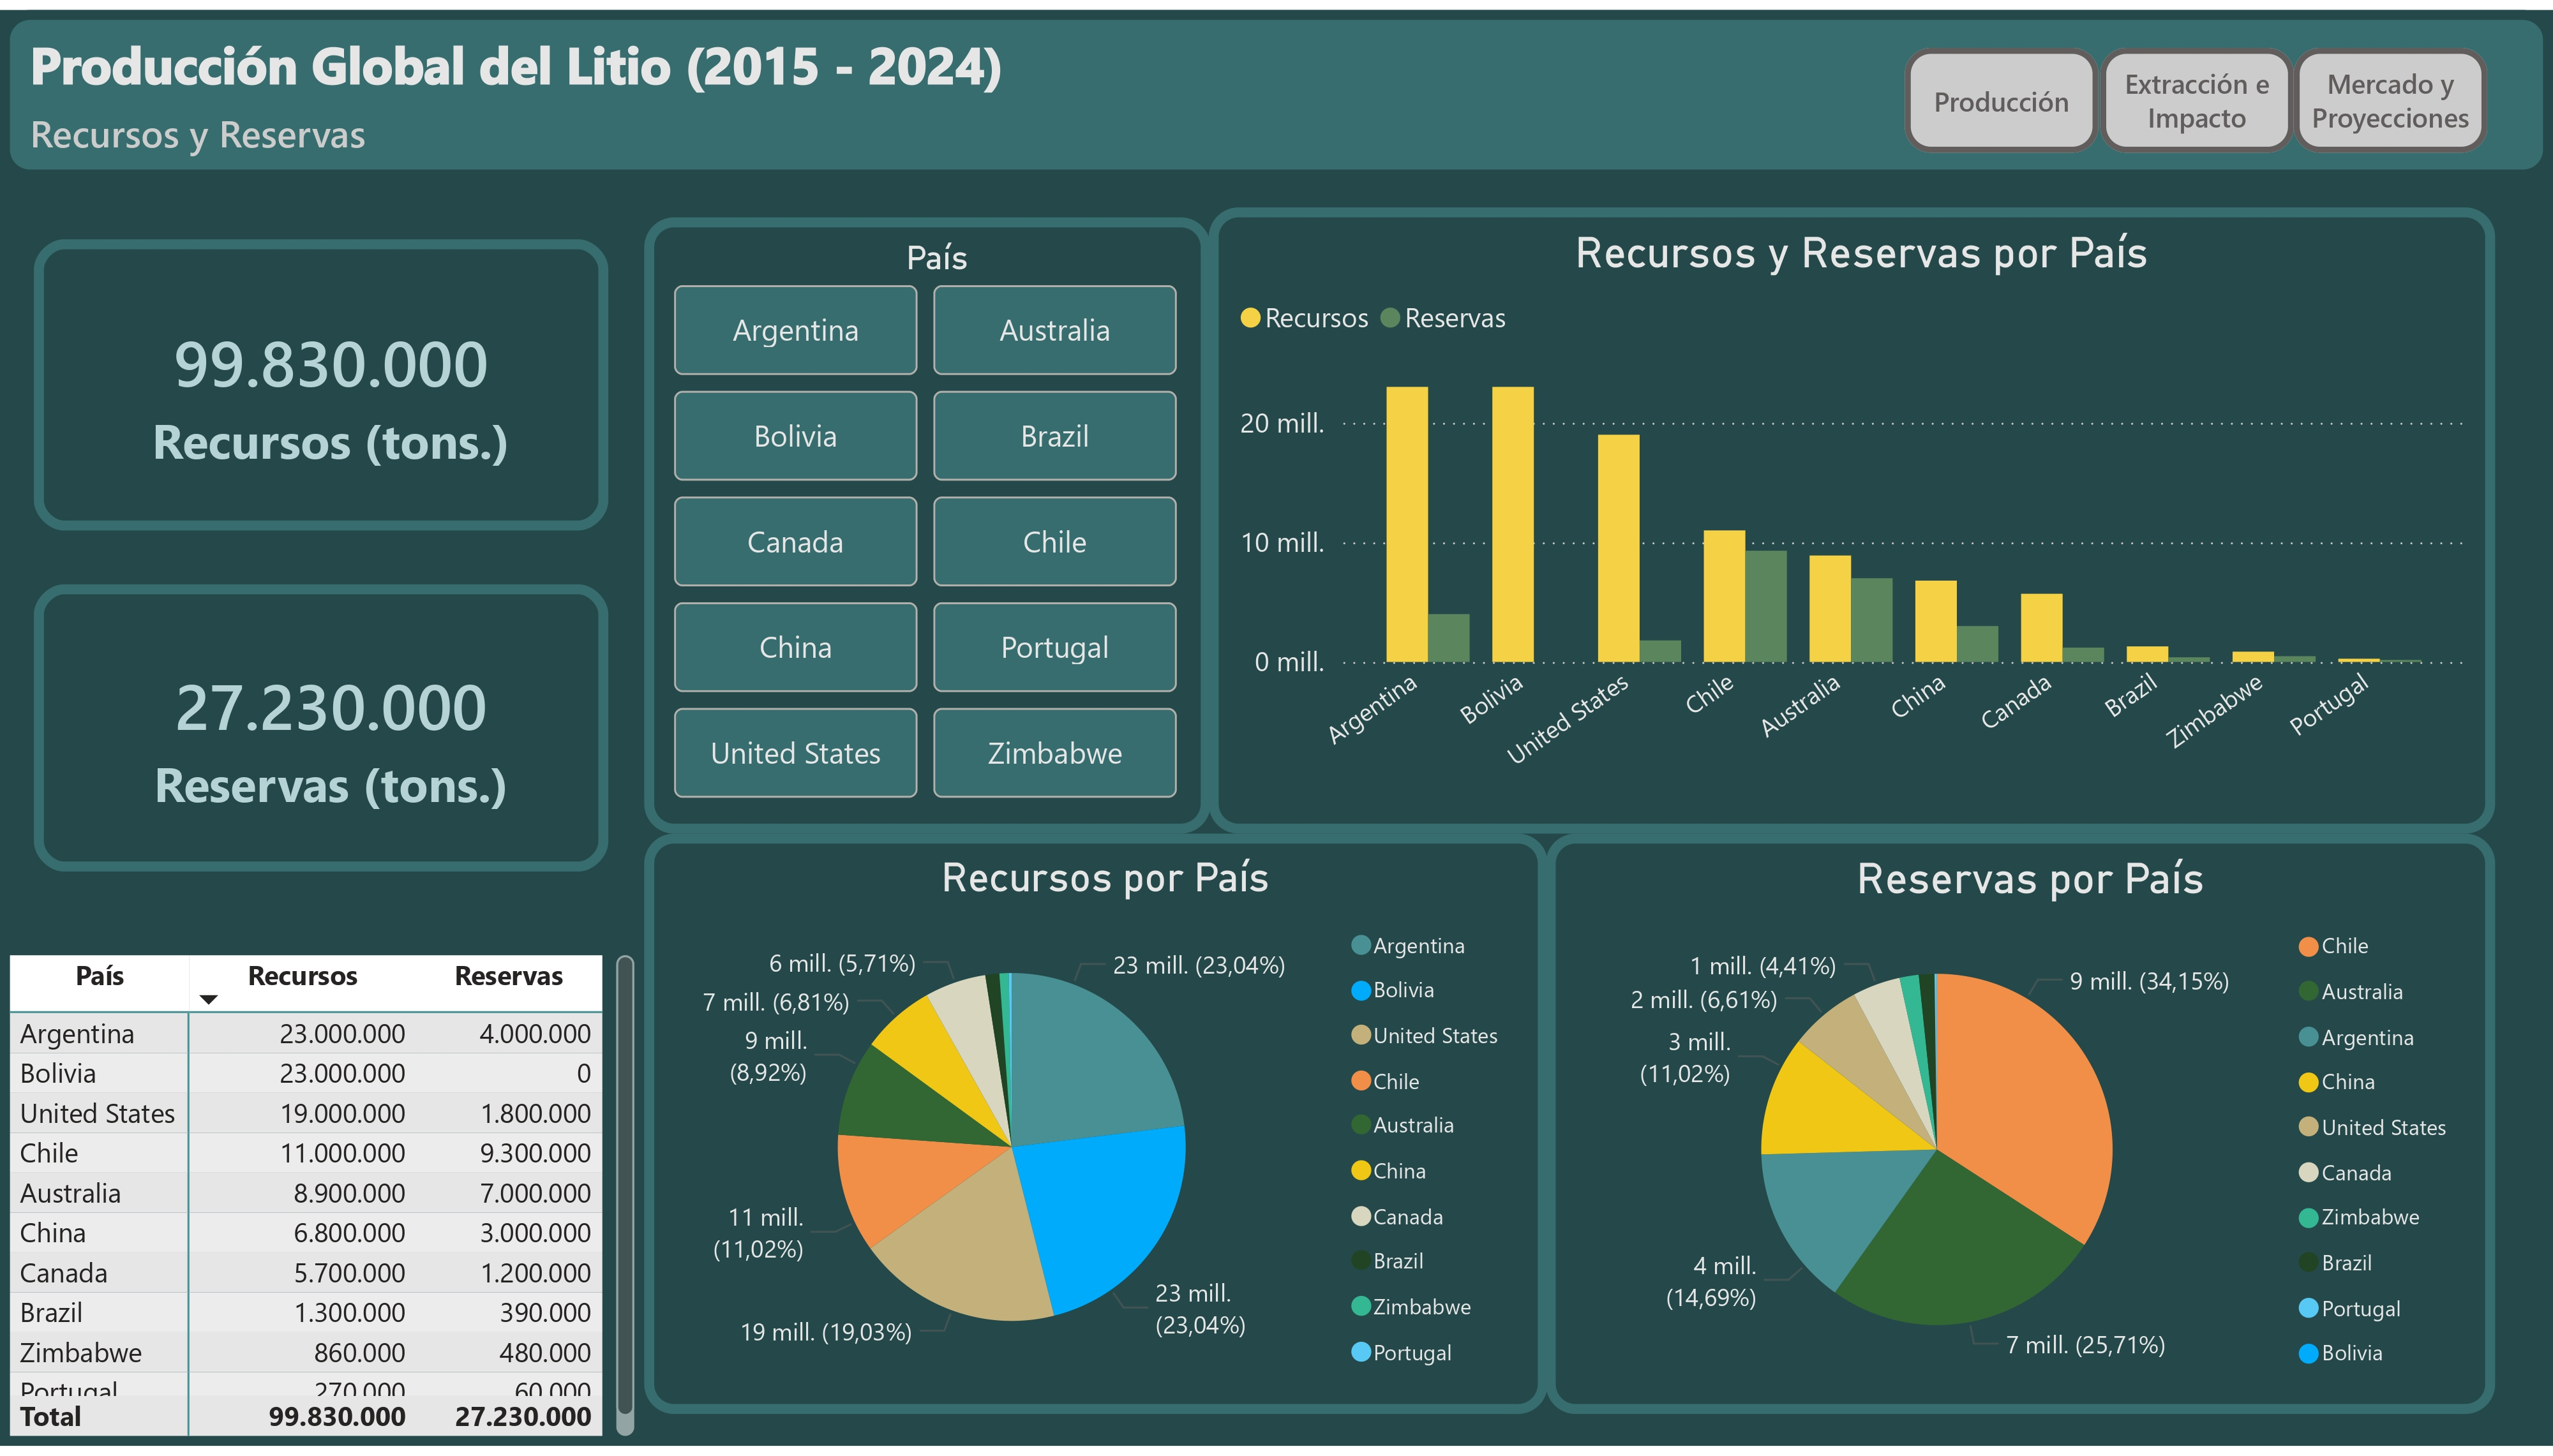

The dashboard page shown, as its layout file describes it:
{"tool":"powerbi","page":{"name":"Recursos y Reservas","canvas":[1280,720],"ordinal":1},"visuals":[{"type":"pivotTable","fields":{"Values":["Sum(dim_pais_detalles.recursos_ton)","Sum(dim_pais_detalles.reservas_ton)"],"Rows":["dim_pais_detalles.nombre_pais"]},"box":[0,468.8,322.5,251.2],"z":0},{"type":"textbox","title":"Producción Global del Litio (2015 - 2024)","box":[0,0,1280,84.6],"z":1000},{"type":"cardVisual","fields":{"Data":["Sum(dim_pais_detalles.recursos_ton)"]},"box":[0,98.3,322.3,180.6],"z":2000},{"type":"cardVisual","fields":{"Data":["Sum(dim_pais_detalles.reservas_ton)"]},"box":[0,270.9,322.3,178.3],"z":3000},{"type":"clusteredColumnChart","title":"Recursos y Reservas por País","fields":{"Category":["dim_pais_detalles.nombre_pais"],"Y":["Sum(dim_pais_detalles.recursos_ton)","Sum(dim_pais_detalles.reservas_ton)"]},"box":[606.2,98.8,645,313.8],"z":4000},{"type":"pieChart","title":"Recursos por País","fields":{"Y":["Sum(dim_pais_detalles.recursos_ton)"],"Category":["dim_pais_detalles.nombre_pais"]},"box":[322.5,412.5,452.5,291.2],"z":5000},{"type":"pieChart","title":"Reservas por País","fields":{"Category":["dim_pais_detalles.nombre_pais"],"Y":["Sum(dim_pais_detalles.reservas_ton)"]},"box":[775,412.5,476.2,291.2],"z":6000},{"type":"advancedSlicerVisual","fields":{"Values":["dim_pais_detalles.nombre_pais"]},"box":[322.5,103.8,283.8,308.8],"z":7000},{"type":"actionButton","title":"Recursos y Reservas","box":[955.4,19.4,97.1,52.6],"z":7001},{"type":"actionButton","title":"Recursos y Reservas","box":[1052.6,19.4,97.1,52.6],"z":7002},{"type":"actionButton","title":"Recursos y Reservas","box":[1149.7,19.4,97.1,52.6],"z":7003}]}

Visuals, with their boxes in screenshot pixels (x1, y1, x2, y2), scaled from the page's 1280x720 canvas onto the 2553x1456 screenshot:
pivotTable - Sum(dim_pais_detalles.recursos_ton) x Sum(dim_pais_detalles.reservas_ton): crop(0, 948, 643, 1455)
"Producción Global del Litio (2015 - 2024)" textbox: crop(0, 0, 2552, 171)
cardVisual - Sum(dim_pais_detalles.recursos_ton): crop(0, 199, 643, 564)
cardVisual - Sum(dim_pais_detalles.reservas_ton): crop(0, 548, 643, 909)
"Recursos y Reservas por País" clusteredColumnChart: crop(1209, 200, 2496, 835)
"Recursos por País" pieChart: crop(643, 834, 1546, 1423)
"Reservas por País" pieChart: crop(1546, 834, 2496, 1423)
advancedSlicerVisual - dim_pais_detalles.nombre_pais: crop(643, 210, 1209, 835)
"Recursos y Reservas" actionButton: crop(1906, 39, 2099, 145)
"Recursos y Reservas" actionButton: crop(2099, 39, 2293, 145)
"Recursos y Reservas" actionButton: crop(2293, 39, 2487, 145)
